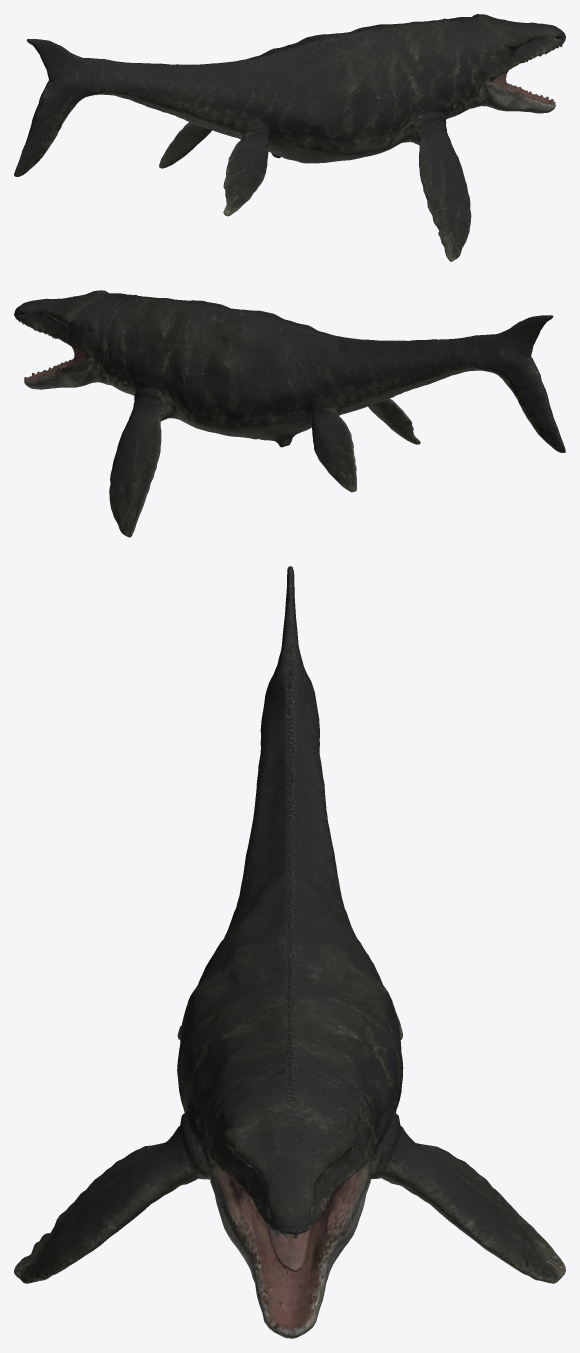
File: mosasaurus.raw.glb
3 views of the same model, one above another, from view 1: azimuth 30°, elevation 25°; view 2: azimuth 150°, elevation 25°; view 3: azimuth 270°, elevation 25° (orthographic). The views are drawn at different scales.
Parts seen in each view (by area): view 1: tripo_node_27a0a871-835d-43b7-ac9b-8a70683a69e1; view 2: tripo_node_27a0a871-835d-43b7-ac9b-8a70683a69e1; view 3: tripo_node_27a0a871-835d-43b7-ac9b-8a70683a69e1.
Boxes of the visible parts, left/top/right/bottom form: tripo_node_27a0a871-835d-43b7-ac9b-8a70683a69e1: left=14, top=14, right=565, bottom=261; tripo_node_27a0a871-835d-43b7-ac9b-8a70683a69e1: left=14, top=290, right=565, bottom=537; tripo_node_27a0a871-835d-43b7-ac9b-8a70683a69e1: left=14, top=566, right=565, bottom=1338.
Size of the model in its own units: 1 by 0.431 by 0.5081.
Materials: 1 (1 with a texture image).
